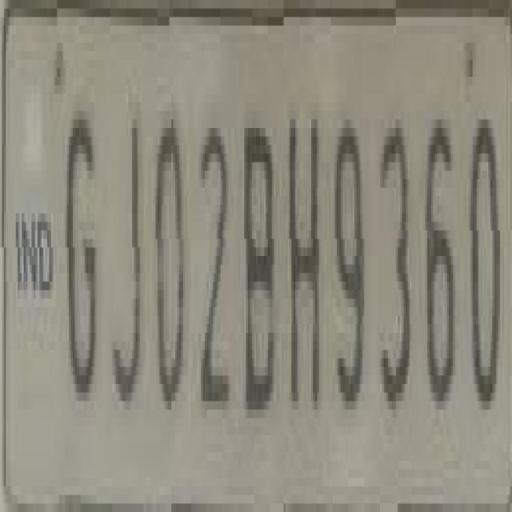number plate: (0, 8, 496, 512)
